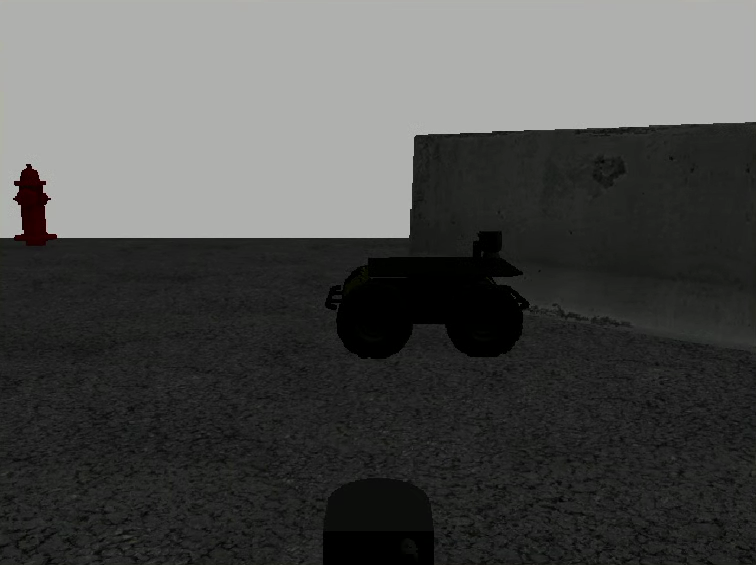husky: (324, 256, 531, 360)
